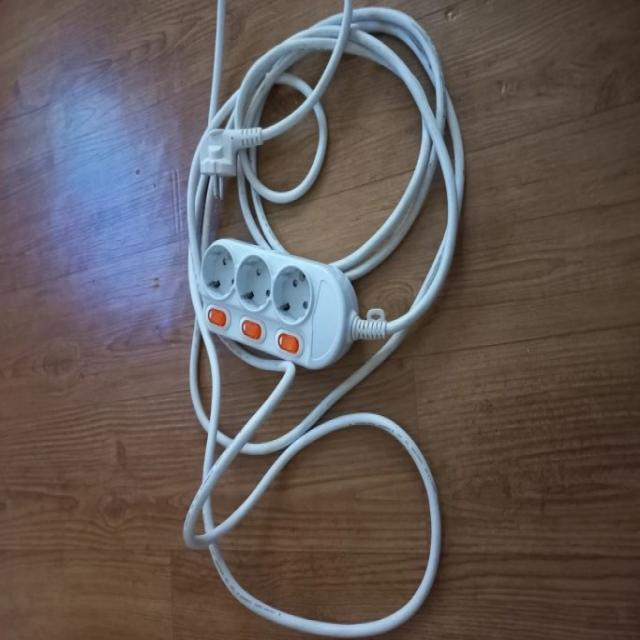typeb: (176, 228, 395, 384)
